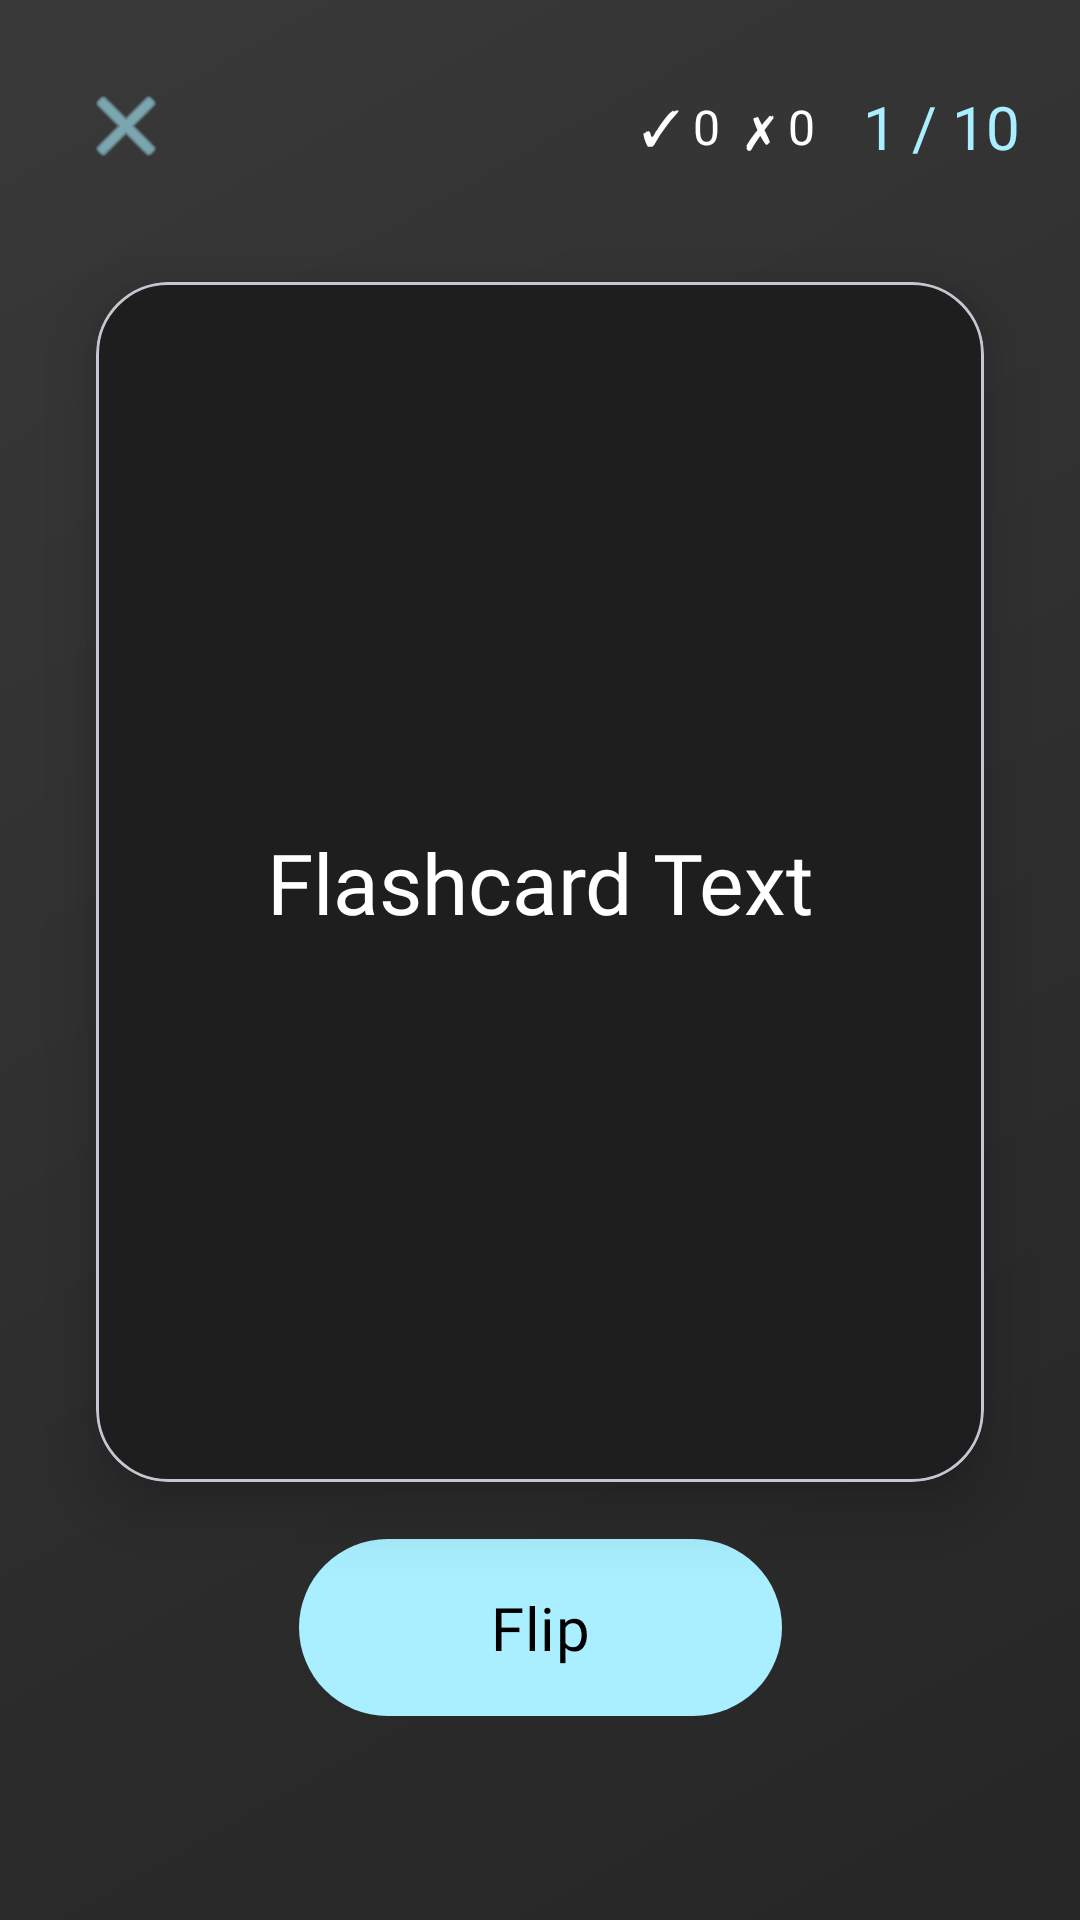

Icon click points for this 1080×1920 phone screenshot, format [x,y]:
Close: [126,126]
